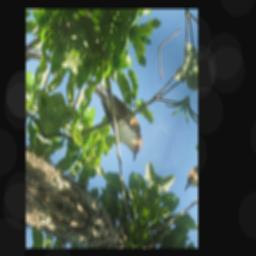Cuckoo: (66, 73, 155, 166)
